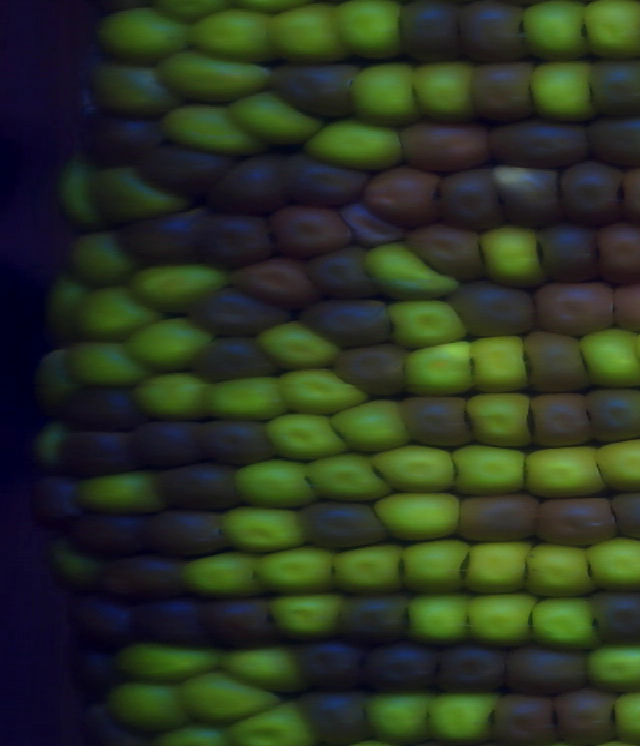fluorescent: (364, 239, 454, 300), (101, 7, 192, 66), (162, 50, 265, 101), (306, 122, 399, 174), (348, 60, 418, 124), (183, 673, 270, 724), (93, 168, 178, 220), (307, 455, 393, 506), (453, 442, 531, 498), (119, 637, 218, 681), (190, 10, 275, 61), (227, 92, 313, 142), (270, 6, 344, 63), (162, 105, 251, 152), (333, 400, 413, 452), (283, 367, 367, 415), (526, 445, 603, 497), (71, 335, 149, 386), (522, 1, 589, 60), (234, 457, 313, 507), (261, 322, 339, 372), (130, 320, 211, 368), (387, 299, 463, 350), (137, 261, 223, 306), (464, 393, 533, 449), (406, 340, 476, 395), (105, 681, 183, 730), (84, 289, 157, 341), (268, 414, 346, 462), (526, 63, 591, 120), (580, 324, 640, 385), (220, 644, 296, 692), (223, 507, 303, 552), (257, 546, 335, 592), (525, 542, 590, 597), (377, 442, 453, 489), (468, 591, 535, 644), (339, 4, 401, 61), (414, 65, 476, 122), (333, 546, 403, 596), (529, 597, 595, 650), (70, 234, 138, 285), (133, 372, 208, 418), (482, 226, 540, 285), (183, 552, 255, 599), (208, 379, 292, 419), (367, 689, 433, 739), (107, 62, 167, 116), (582, 2, 640, 57), (473, 337, 528, 395), (403, 540, 464, 592), (228, 706, 306, 746), (79, 470, 153, 512), (463, 542, 529, 589), (272, 594, 338, 638), (588, 535, 640, 588), (428, 693, 495, 733), (408, 596, 468, 639), (63, 164, 100, 223), (591, 644, 640, 687), (598, 440, 640, 490), (41, 345, 73, 402), (50, 282, 87, 321), (56, 545, 93, 583), (40, 427, 68, 467)
nonfluorescent: (269, 62, 357, 122), (488, 121, 592, 169), (189, 287, 288, 337), (77, 111, 158, 169), (404, 223, 483, 281), (364, 166, 438, 227), (122, 211, 209, 262), (453, 287, 533, 342), (536, 495, 619, 548), (559, 162, 626, 227), (274, 154, 364, 202), (493, 164, 558, 230), (458, 493, 538, 546), (534, 283, 618, 333), (300, 499, 382, 550), (532, 389, 598, 452), (468, 62, 535, 123), (63, 512, 147, 560), (399, 124, 482, 172), (96, 554, 179, 602), (502, 647, 584, 695), (436, 642, 507, 697), (273, 208, 345, 262), (436, 171, 503, 228), (305, 249, 377, 302), (335, 344, 403, 400), (309, 300, 390, 347), (154, 466, 240, 510), (54, 428, 130, 477), (147, 147, 227, 193), (198, 417, 273, 466), (462, 7, 528, 62), (527, 334, 588, 393), (366, 642, 439, 691), (68, 589, 133, 644), (398, 4, 458, 63), (234, 262, 313, 306), (134, 596, 202, 647), (56, 387, 133, 432), (191, 334, 267, 379), (203, 220, 271, 270), (208, 600, 276, 650), (535, 222, 594, 278), (298, 642, 360, 695), (405, 397, 471, 446), (300, 693, 361, 746), (133, 421, 201, 467), (223, 157, 278, 213), (588, 57, 640, 115), (343, 595, 409, 640), (148, 517, 227, 554), (494, 693, 553, 742), (590, 387, 640, 442), (587, 118, 640, 167), (75, 642, 118, 701), (596, 225, 640, 282), (593, 591, 640, 643), (346, 205, 396, 247)
